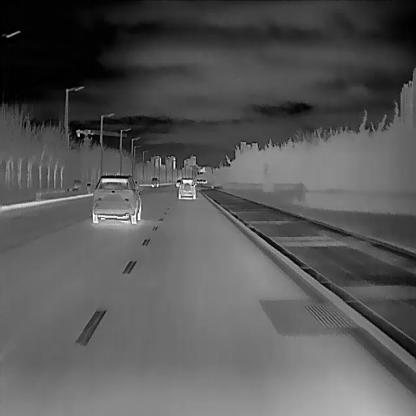car: (91, 174, 141, 223), (178, 177, 196, 199), (150, 176, 159, 187), (176, 179, 181, 187), (199, 178, 203, 183), (202, 179, 207, 183), (196, 179, 199, 183)
